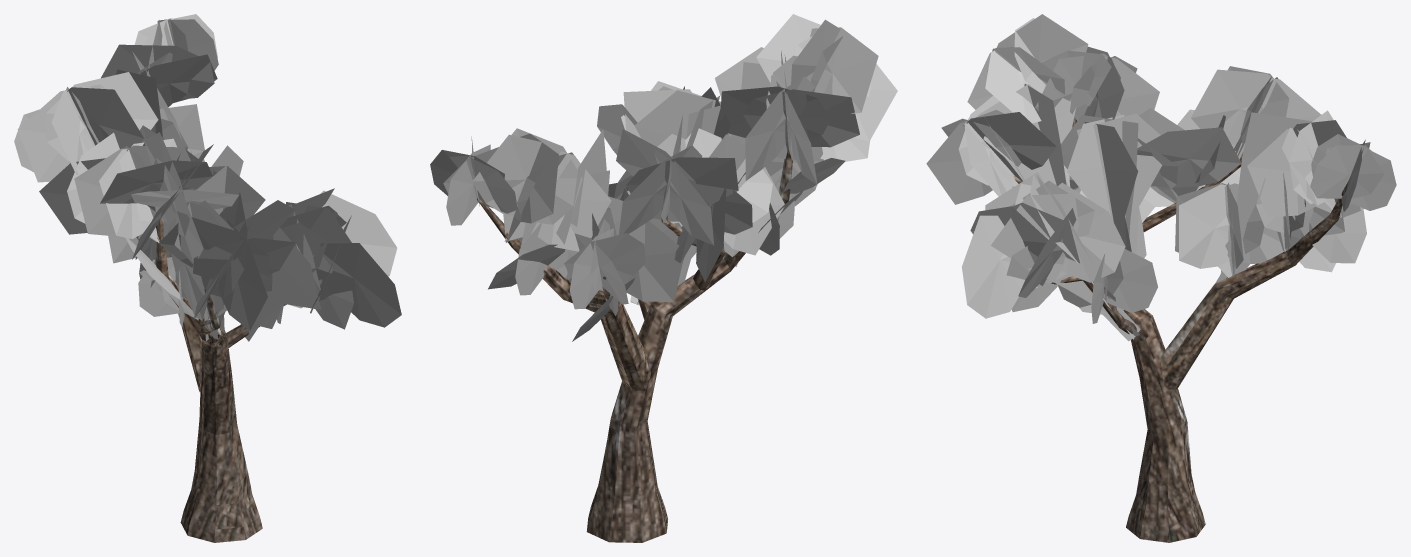
Rendered from Oak_003.fbx.
The picture shows the model from 3 angles, left to right: view 1: azimuth 30°, elevation 25°; view 2: azimuth 150°, elevation 25°; view 3: azimuth 270°, elevation 25°; orthographic projection. The views are drawn at different scales.
Parts seen in each view (by area): view 1: Tree_Oak_Leaves3, Tree_Oak_Trunk3; view 2: Tree_Oak_Leaves3, Tree_Oak_Trunk3; view 3: Tree_Oak_Leaves3, Tree_Oak_Trunk3.
Boxes of the visible parts, x1,y1,x2,y2 form: Tree_Oak_Leaves3: (14, 14, 401, 341); Tree_Oak_Trunk3: (136, 153, 320, 542); Tree_Oak_Leaves3: (430, 14, 897, 341); Tree_Oak_Trunk3: (477, 55, 792, 542); Tree_Oak_Leaves3: (926, 14, 1396, 341); Tree_Oak_Trunk3: (1013, 117, 1348, 542).
Bounding box in the file's own units: 1750 × 2854 × 2686.
